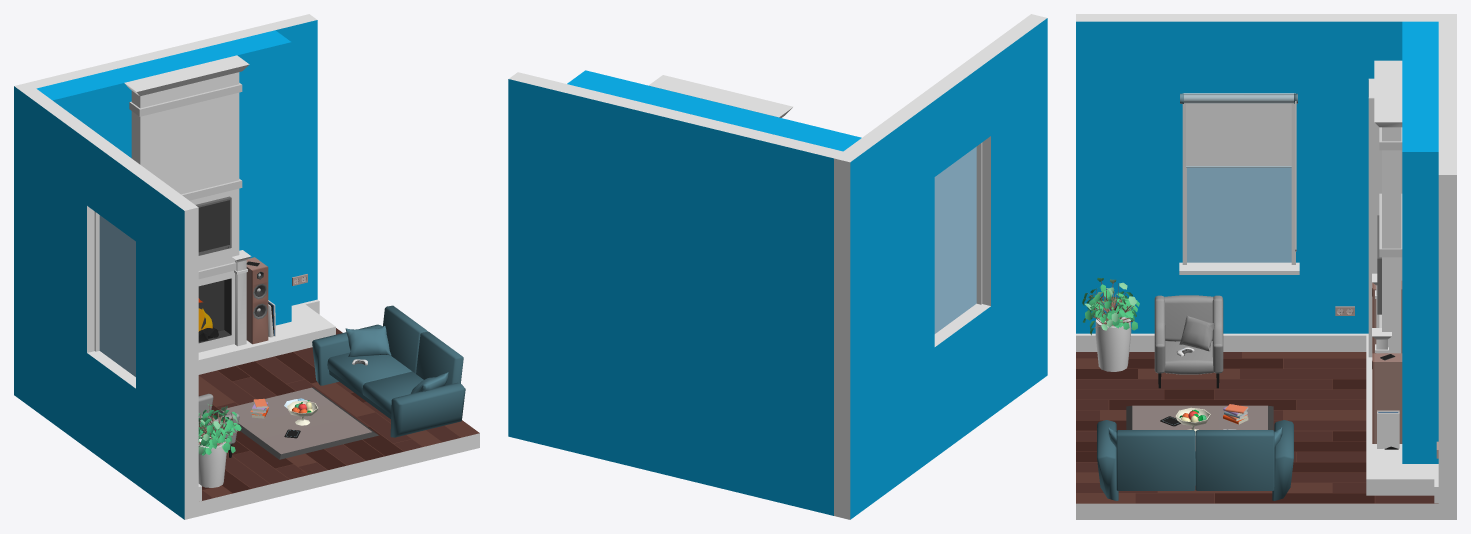
The model's file is room_27.glb.
The picture shows the model from 3 angles, left to right: view 1: azimuth 30°, elevation 25°; view 2: azimuth 150°, elevation 25°; view 3: azimuth 270°, elevation 25°; orthographic projection. The views are drawn at different scales.
Parts seen in each view (by area): view 1: Walls_075.008, tv_wall_006.001, Walls_075.007, Walls_070.001, floor_016.002, sofa_022.001, Walls_075.006, window_005.004, carpet_001.007, Walls_056.001, Walls_075.009, Walls_075.010 (+4 smaller); view 2: Walls_075.006, Walls_075.008, Walls_075.007, window_005.004, Walls_075.009, Walls_075.010, Walls_070.001, tv_wall_006.001; view 3: Walls_075.007, floor_016.002, Walls_075.008, Walls_070.001, sofa_022.001, window_005.004, Walls_075.006, Walls_056.001, Walls_075.010, Curtains_026.006, tv_wall_006.001, armchair_006.001 (+10 smaller).
Boxes of the visible parts, left/top/right/bottom form: Walls_075.008: left=14, top=82, right=100, bottom=448; tv_wall_006.001: left=124, top=55, right=251, bottom=352; Walls_075.007: left=136, top=172, right=198, bottom=519; Walls_070.001: left=36, top=30, right=291, bottom=325; floor_016.002: left=198, top=328, right=479, bottom=500; sofa_022.001: left=312, top=305, right=465, bottom=437; Walls_075.006: left=28, top=14, right=317, bottom=305; window_005.004: left=94, top=211, right=135, bottom=376; carpet_001.007: left=215, top=387, right=378, bottom=459; Walls_056.001: left=198, top=347, right=479, bottom=516; Walls_075.009: left=87, top=351, right=135, bottom=483; Walls_075.010: left=87, top=136, right=149, bottom=241; Walls_075.006: left=508, top=72, right=842, bottom=515; Walls_075.008: left=834, top=96, right=934, bottom=519; Walls_075.007: left=975, top=14, right=1047, bottom=416; window_005.004: left=934, top=142, right=982, bottom=333; Walls_075.009: left=934, top=303, right=990, bottom=457; Walls_075.010: left=919, top=55, right=990, bottom=176; Walls_070.001: left=567, top=70, right=861, bottom=151; tv_wall_006.001: left=649, top=75, right=793, bottom=117; Walls_075.007: left=1076, top=14, right=1184, bottom=333; floor_016.002: left=1076, top=352, right=1434, bottom=503; Walls_075.008: left=1293, top=14, right=1456, bottom=333; Walls_070.001: left=1402, top=21, right=1438, bottom=463; sofa_022.001: left=1097, top=420, right=1293, bottom=500; window_005.004: left=1182, top=93, right=1295, bottom=264; Walls_075.006: left=1438, top=21, right=1456, bottom=519; Walls_056.001: left=1076, top=352, right=1438, bottom=519; Walls_075.010: left=1185, top=14, right=1293, bottom=93; Curtains_026.006: left=1180, top=93, right=1297, bottom=251; tv_wall_006.001: left=1372, top=60, right=1402, bottom=353; armchair_006.001: left=1154, top=295, right=1223, bottom=388.
Bounding box in the file's own units: 4.24 × 4.2 × 4.2.
1 material, 1 textured.
